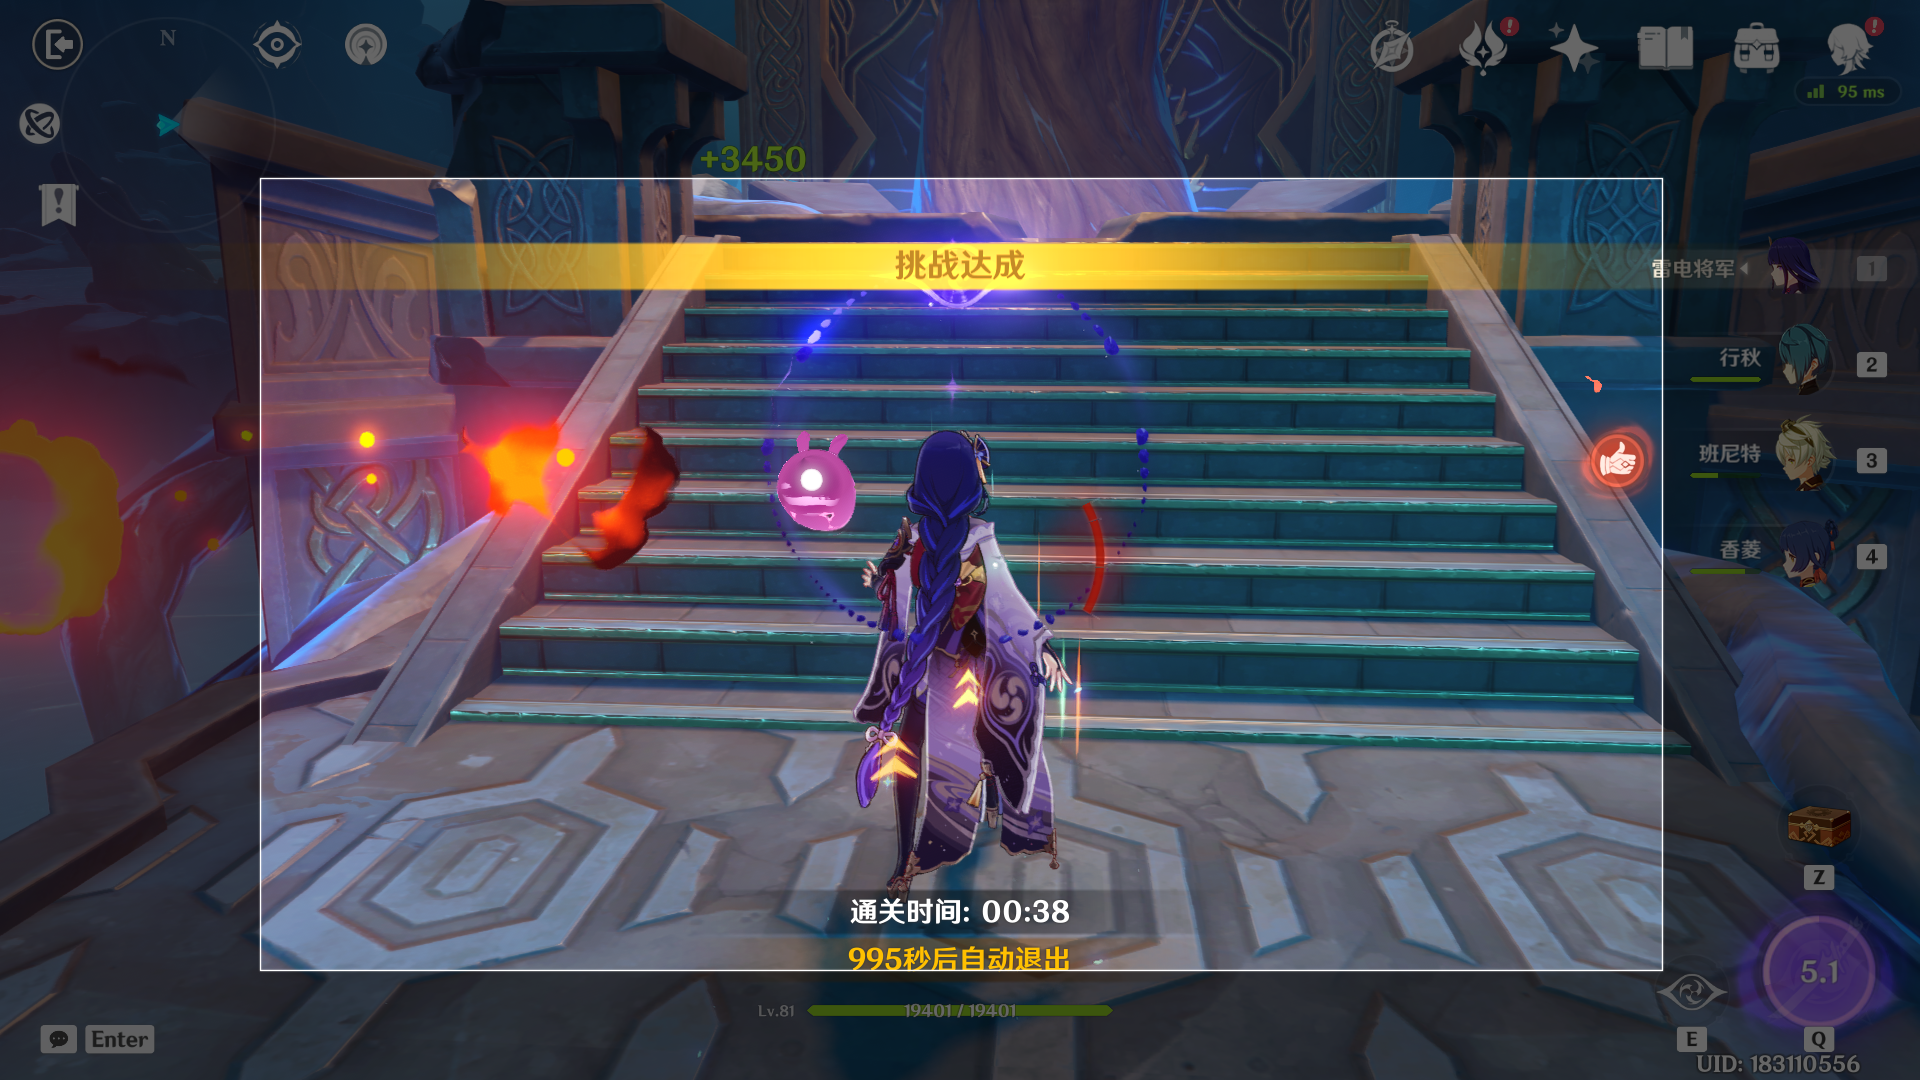character: (781, 407, 1120, 934)
